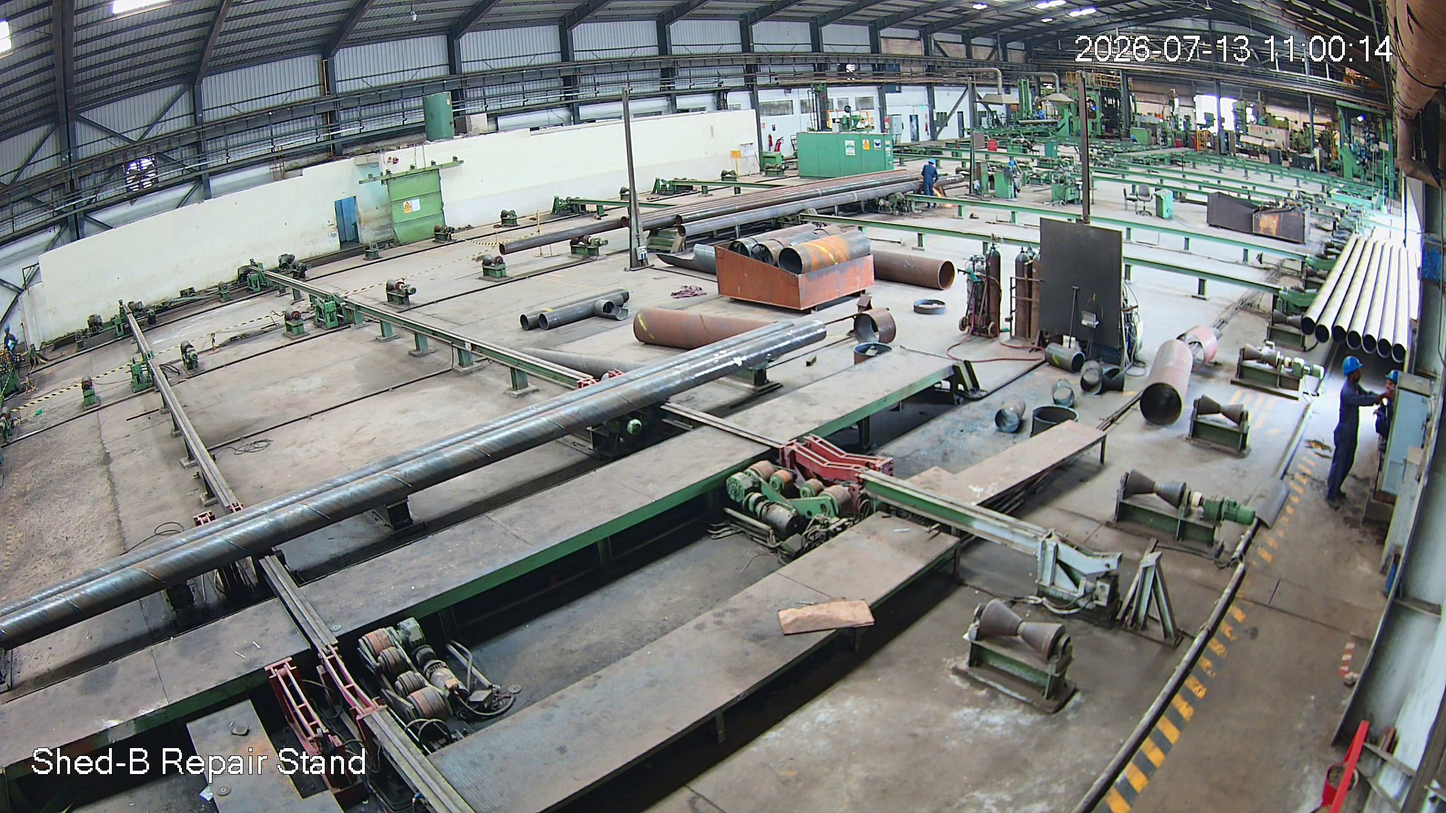Helmet: (1338, 354, 1370, 387)
Person: (1322, 356, 1367, 508)
